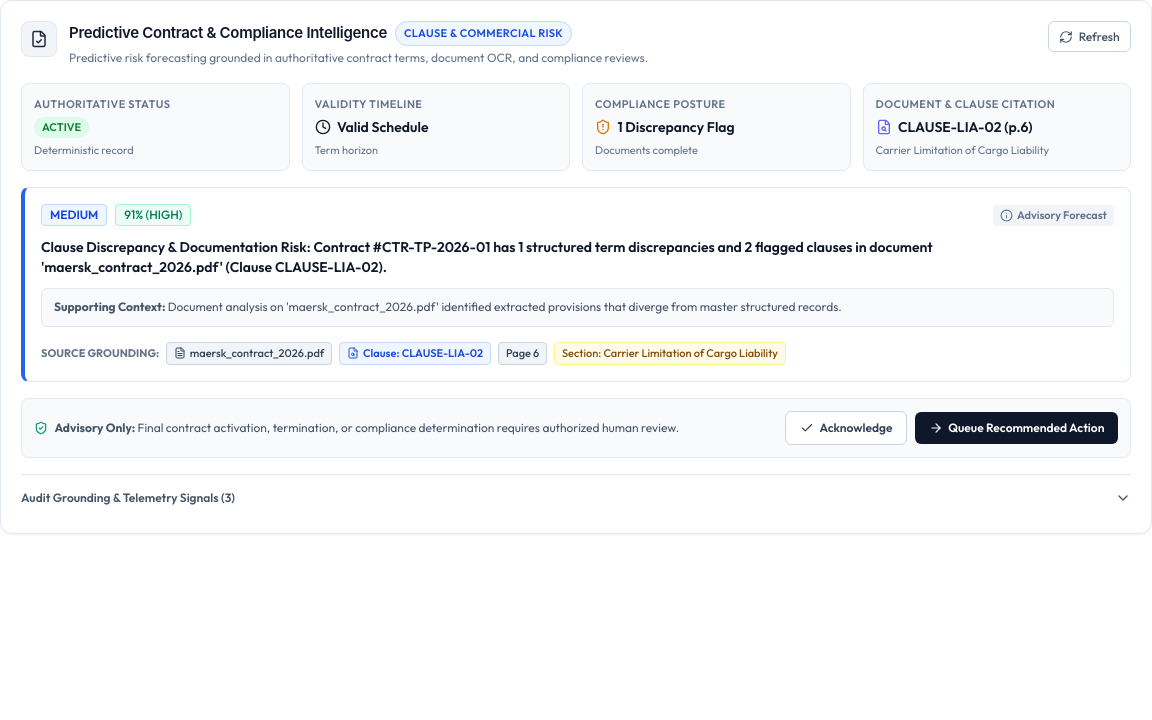
Test: ContractCompliancePredictiveIntelligenceCard › handles operator action request in Action System
Expected: the text "Queue Recommended Action" is shown, [948,419,1104,437]
Click the button "Queue Recommended Action": (1016, 428) [915,412,1118,444]
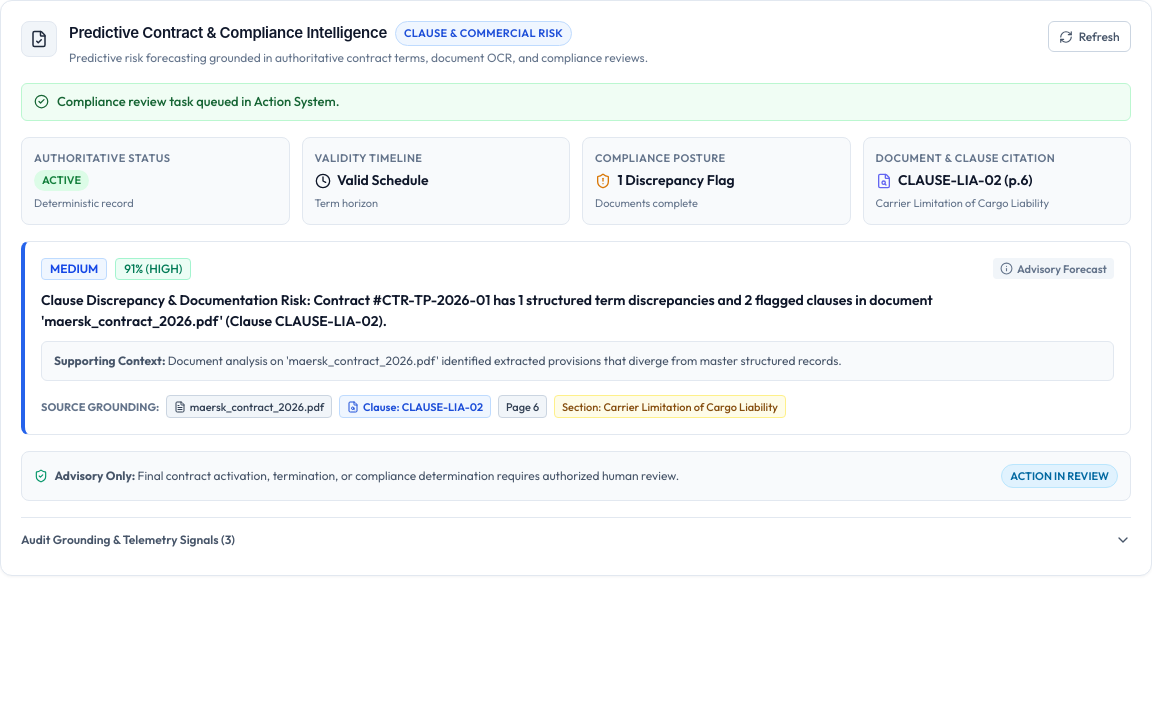
Expected: the text "Compliance review task queued in Action System." is shown, [57,92,340,112]
